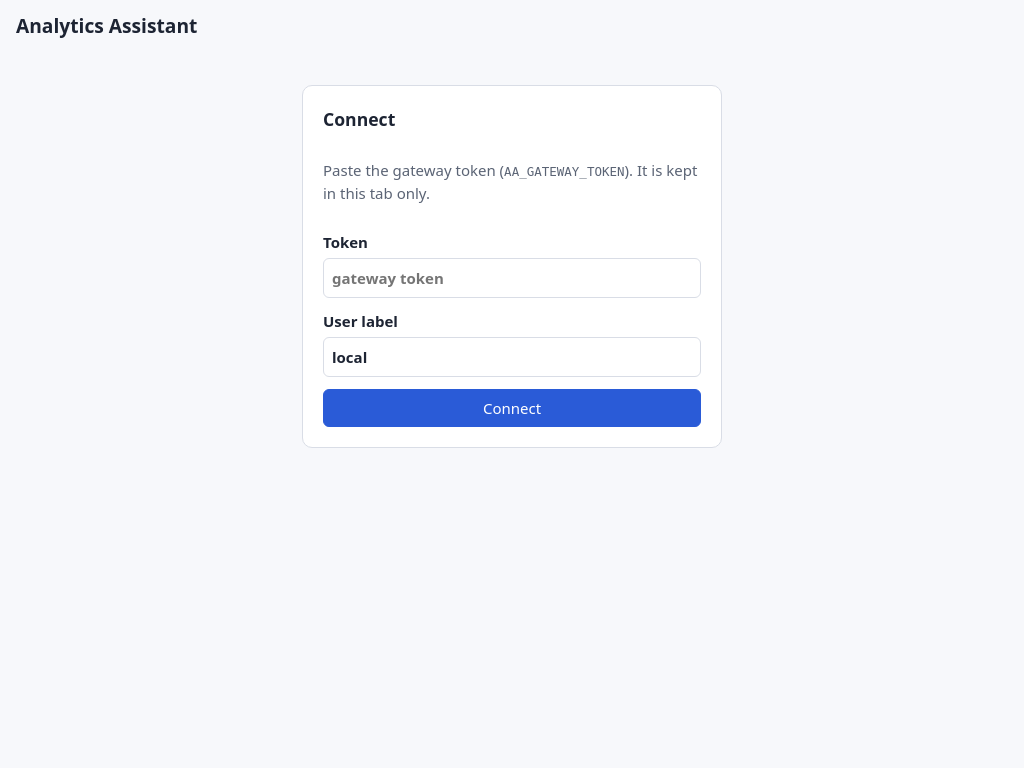
Scenario: App › creates a conversation and resumes an existing one with its tool calls
The width and height of the screenshot is (1024, 768).
Step 1. Type "tok-1234" into the password field labelled "Token" → (512,278), box [323, 258, 701, 298]
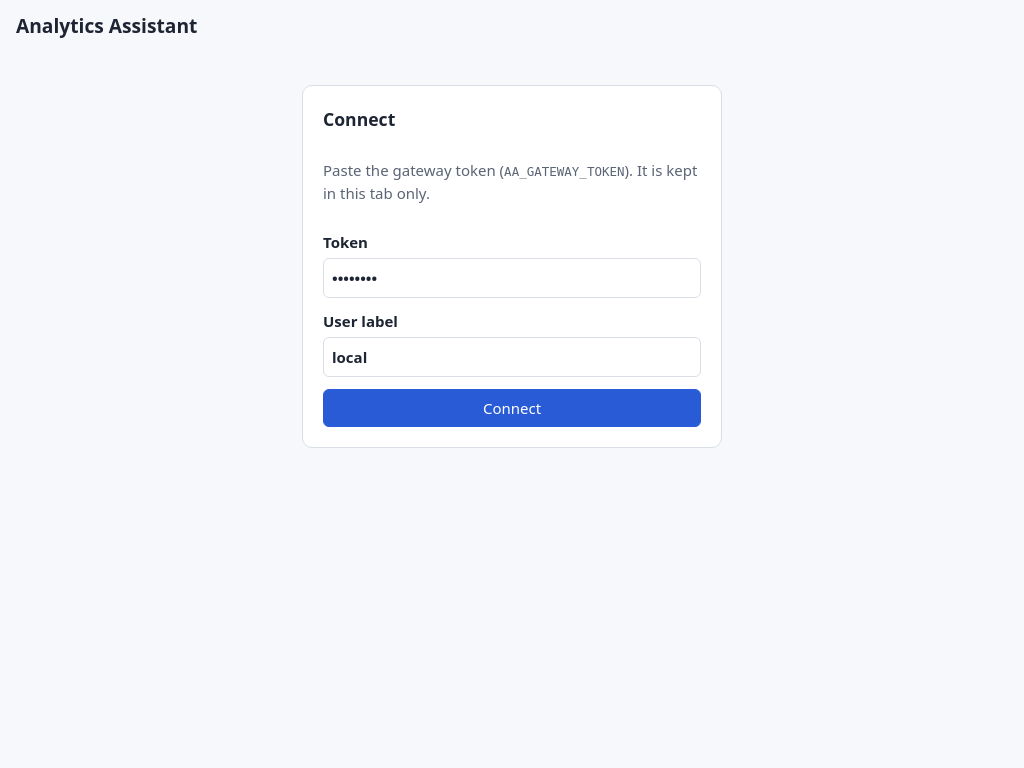
Step 2. Click the button "Connect" → (512,408), box [323, 389, 701, 427]
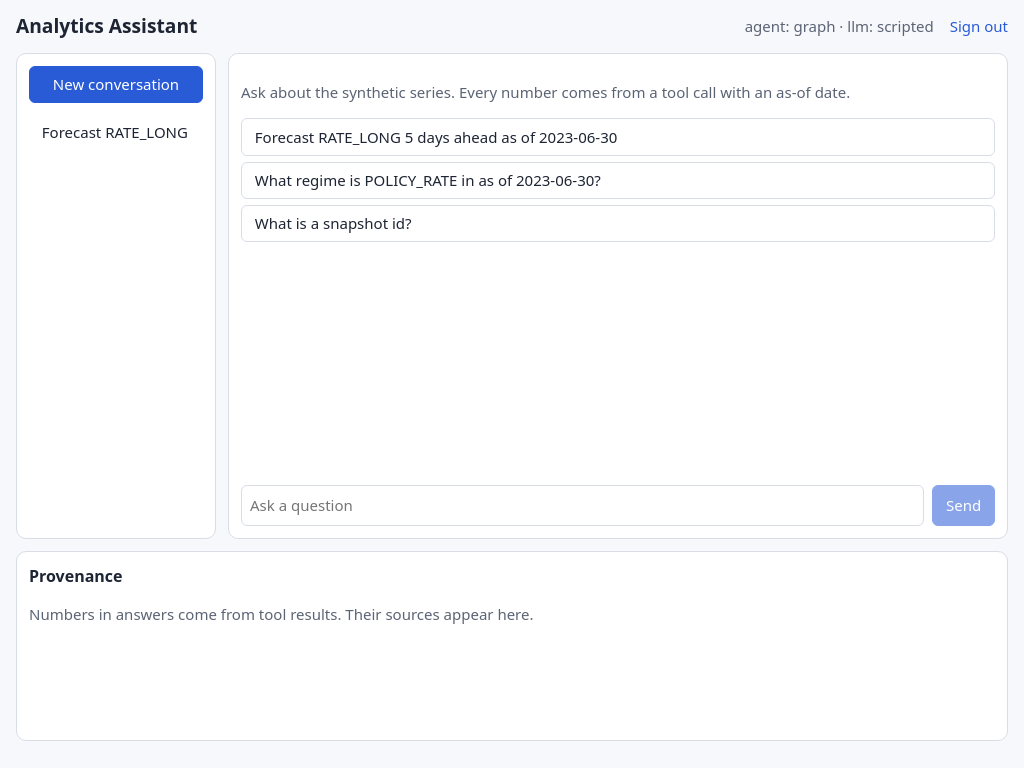
Step 3. Click the button "Forecast RATE_LONG" → (116,133), box [29, 115, 203, 150]
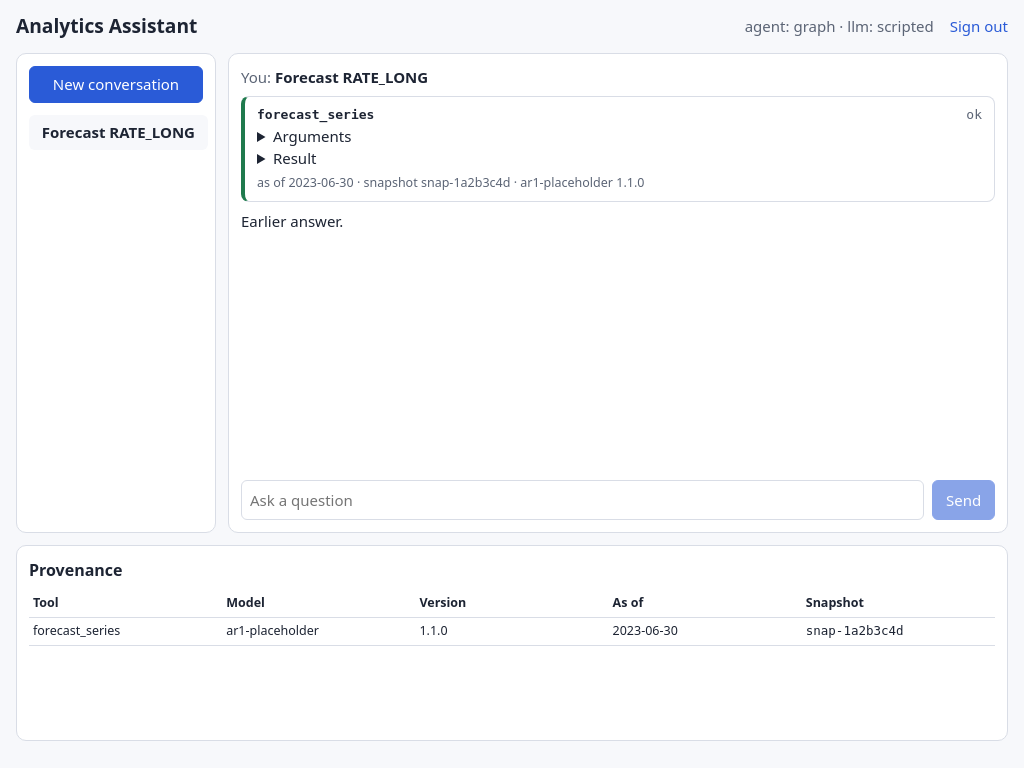
Check: the text with test id "assistant-text" reads "Earlier answer.", box [241, 210, 343, 230]
Check: the element named "Tool call forecast_series" is shown, box [241, 96, 995, 202]
Check: the text "snap-1a2b3c4d" is shown, box [802, 618, 995, 645]
Step 4. Click the button "New conversation" → (116,84), box [29, 66, 203, 103]
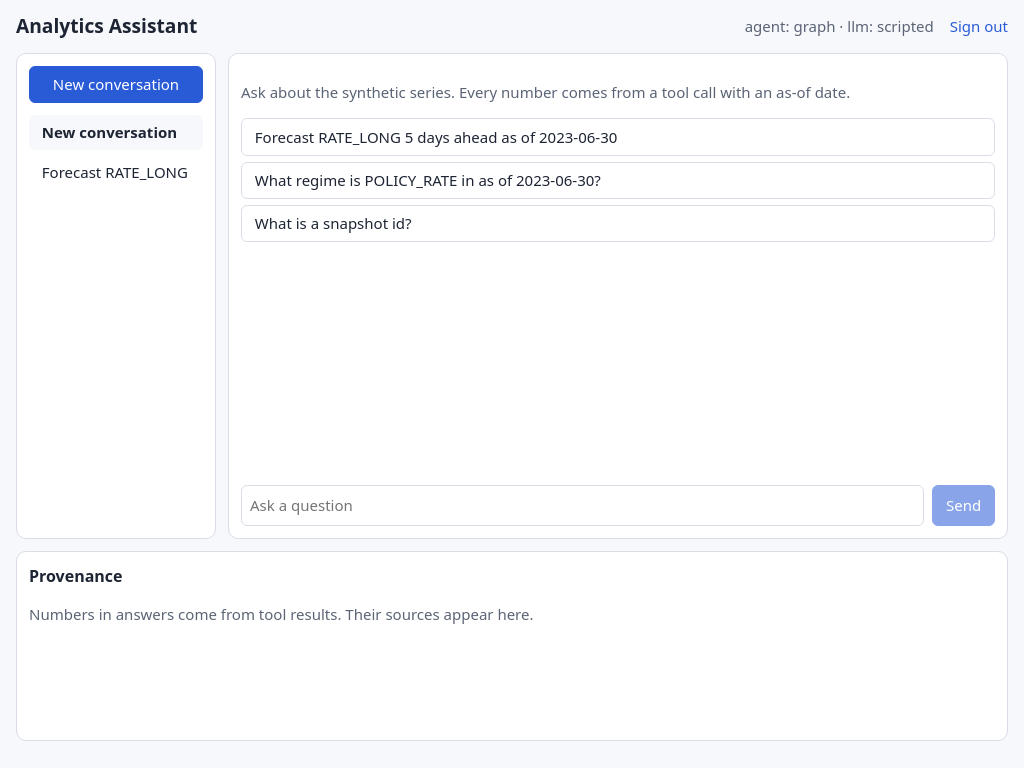
Check: the text with test id "assistant-text" is gone
